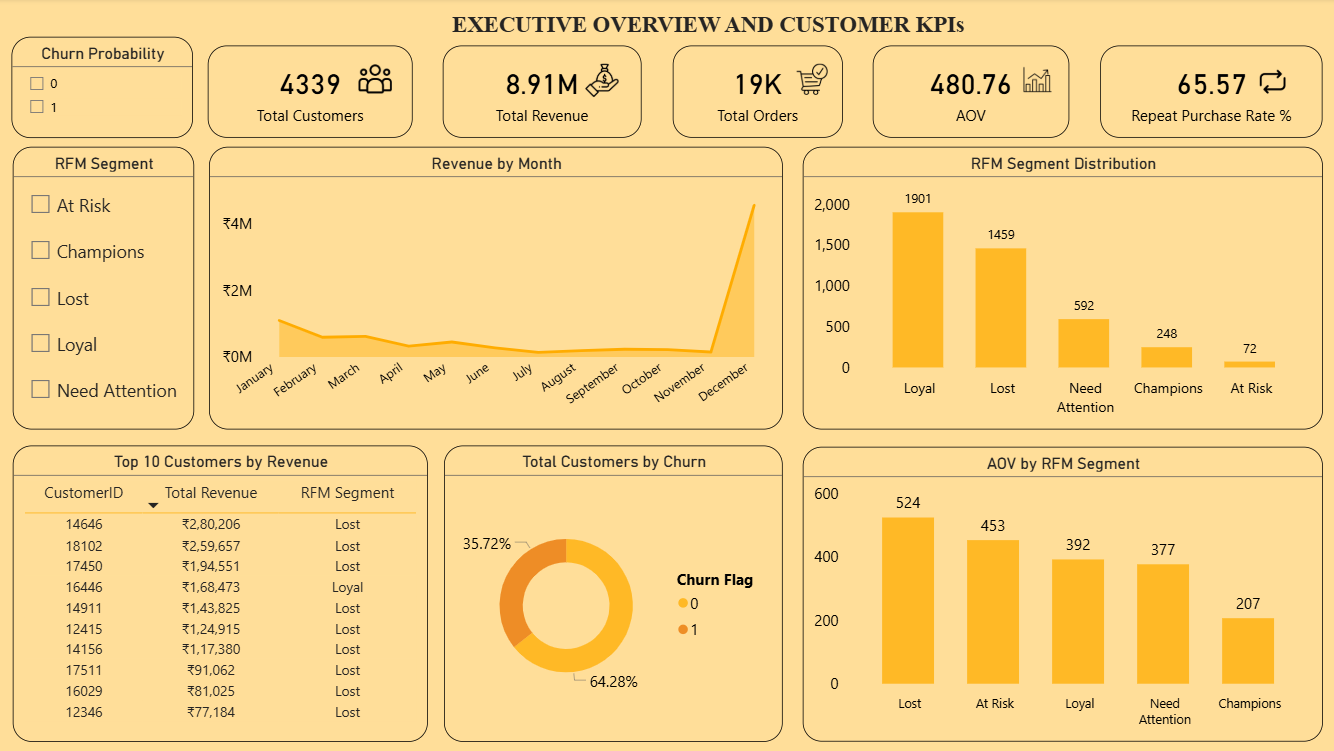

This screenshot's page, from the dashboard's own definition file:
{"tool":"powerbi","page":{"name":"Page 1","canvas":[1420,800],"ordinal":0},"visuals":[{"type":"areaChart","title":"Revenue by Month","fields":{"Y":["Sum(customer_summary.total_revenue)"],"Category":["customer_summary.first_purchase.Variation.Date Hierarchy.Month"]},"box":[227.5,157.4,607.1,298.9],"z":0},{"type":"clusteredColumnChart","title":"AOV by RFM Segment","fields":{"Category":["churn_predictions.rfm_segment"],"Y":["Date Table.AOV"]},"box":[855.8,474.9,550.3,312.2],"z":1000},{"type":"card","title":"Total Customers","fields":{"Values":["Date Table.Total Customers"]},"box":[226.2,50.3,216.9,97.9],"z":2000},{"type":"card","fields":{"Values":["Date Table.Total Orders"]},"box":[718.3,50.3,179.9,97.9],"z":3000},{"type":"card","fields":{"Values":["Date Table.Total Revenue"]},"box":[474.9,50.3,210.3,97.9],"z":4000},{"type":"card","fields":{"Values":["Date Table.AOV"]},"box":[929.9,50.3,207.7,97.9],"z":5000},{"type":"donutChart","title":"Total Customers by Churn","fields":{"Y":["CountNonNull(customer_analytics churn_predictions.customer_id)"],"Category":["customer_analytics churn_predictions.churn_flag"]},"box":[476.2,473.5,358.5,313.5],"z":6000},{"type":"columnChart","title":"RFM Segment Distribution","fields":{"Category":["rfm_segment.rfm_segment"],"Y":["Count(rfm_segment.customer_id)"]},"box":[855.8,157.4,550.3,298.9],"z":7000},{"type":"textbox","box":[177.2,9.3,1157.4,41],"z":8000},{"type":"image","box":[380.7,60.3,45,50.3],"z":9000},{"type":"image","box":[1084.4,63,39.7,45],"z":10000},{"type":"image","box":[617.5,64.3,51.6,45],"z":11000},{"type":"image","box":[833.1,64.3,64.8,42.3],"z":12000},{"type":"slicer","title":"RFM Segment","fields":{"Values":["rfm_segment.rfm_segment"]},"box":[19.8,157.4,191.8,298.9],"z":14000},{"type":"tableEx","title":"Top 10 Customers by Revenue","fields":{"Values":["customer_summary.CustomerID","customer_summary.total_revenue","rfm_segment.rfm_segment"]},"box":[19.8,473.5,439.2,313.5],"z":15000},{"type":"slicer","title":"Churn Probability","fields":{"Values":["churn_predictions.churn_pred"]},"box":[18.5,41,191.8,107.1],"z":16000},{"type":"card","fields":{"Values":["Date Table.Repeat Purchase Rate %"]},"box":[1170.6,50.3,235.5,97.9],"z":17000},{"type":"image","box":[1334.7,66.1,37,45],"z":18000}]}

Visuals, with their boxes in screenshot pixels (x1, y1, x2, y2), scaled from the page's 1420x800 canvas onto the 1334x751 screenshot:
"Revenue by Month" areaChart: (214,148,784,428)
"AOV by RFM Segment" clusteredColumnChart: (804,446,1321,739)
"Total Customers" card: (213,47,416,139)
card - Date Table.Total Orders: (675,47,844,139)
card - Date Table.Total Revenue: (446,47,644,139)
card - Date Table.AOV: (874,47,1069,139)
"Total Customers by Churn" donutChart: (447,444,784,739)
"RFM Segment Distribution" columnChart: (804,148,1321,428)
textbox: (166,9,1254,47)
image: (358,57,400,104)
image: (1019,59,1056,101)
image: (580,60,629,103)
image: (783,60,844,100)
"RFM Segment" slicer: (19,148,199,428)
"Top 10 Customers by Revenue" tableEx: (19,444,431,739)
"Churn Probability" slicer: (17,38,198,139)
card - Date Table.Repeat Purchase Rate %: (1100,47,1321,139)
image: (1254,62,1289,104)
